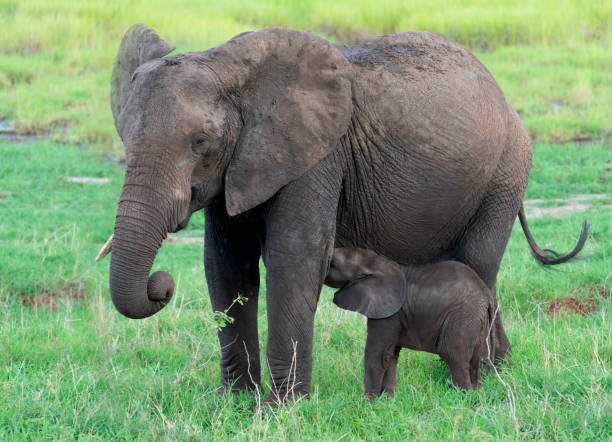africanelephant: (83, 27, 318, 341)
